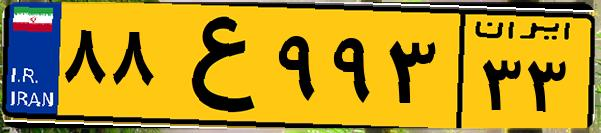3: (385, 28, 445, 110), (475, 38, 525, 113), (525, 38, 570, 115)
8: (57, 26, 110, 100), (110, 28, 158, 98)
9: (270, 28, 330, 110), (330, 28, 385, 110)
ع: (158, 12, 270, 120)
